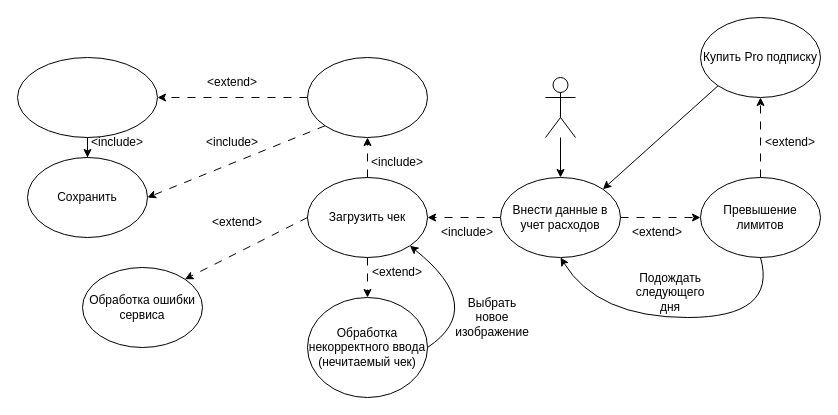
Some shapes in this 838 by 415 pixel diagram are drawn without their labels. Here are the shapes that lost their labels. From the top down, the centre of each, then its label:
At point 87,97: "Ручная корректировка ввода".
At point 367,97: "Распознование чека, генерация вывода".
At point 560,107: "Пользователь".
